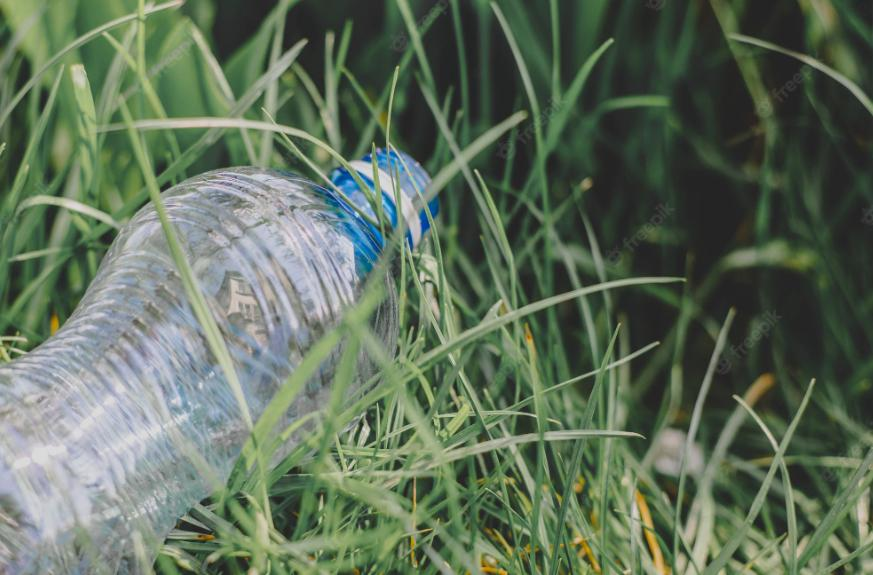bottle: (12, 136, 450, 569)
